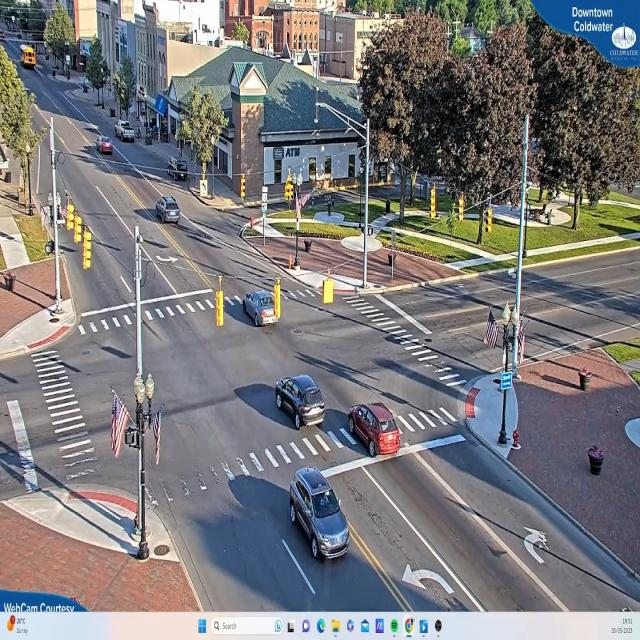bus: (22, 46, 36, 68)
car: (289, 468, 351, 562), (348, 403, 403, 458), (274, 375, 326, 429), (240, 292, 280, 326), (157, 197, 180, 223), (117, 121, 137, 145), (98, 137, 113, 154)
